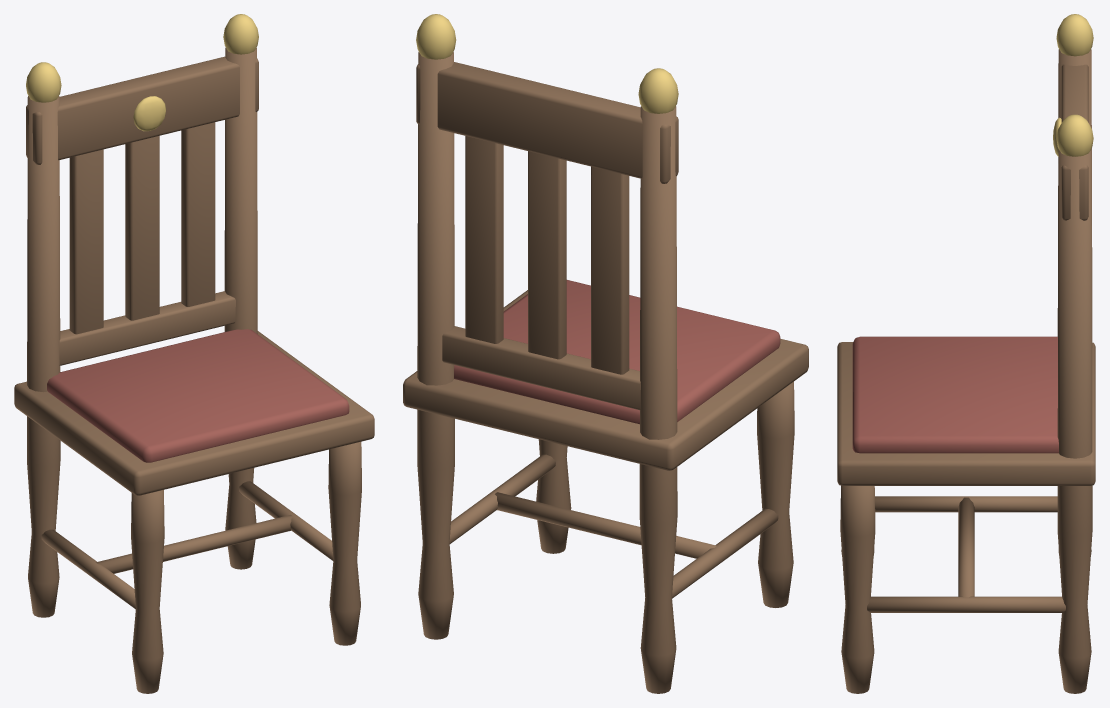
File: tavern_chair.glb
The picture shows the model from 3 angles, left to right: view 1: azimuth 30°, elevation 25°; view 2: azimuth 150°, elevation 25°; view 3: azimuth 270°, elevation 25°; orthographic projection. The views are drawn at different scales.
Parts seen in each view (by area): view 1: ChairCushion, ChairLeg_-2_2, ChairSeat, ChairCrestRail, ChairLeg_2_2, ChairSlat_13, ChairSlat_-13, ChairSlat_0, ChairLeg_-2_-2, ChairLeg_2_-2, ChairBotRail, ChairRungMid (+5 smaller); view 2: ChairLeg_-2_2, ChairLeg_2_2, ChairSeat, ChairCrestRail, ChairCushion, ChairSlat_13, ChairSlat_-13, ChairSlat_0, ChairBotRail, ChairLeg_-2_-2, ChairRungMid, ChairLeg_2_-2 (+4 smaller); view 3: ChairCushion, ChairLeg_2_2, ChairSeat, ChairLeg_2_-2, ChairRungR, ChairRungL, ChairCrestRail, ChairRungMid, ChairFinial_2, ChairFinial_-2, ChairLeg_-2_2.
Part boxes in pixels (x1,y1,x2,y2): ChairCushion: (47,329,349,462); ChairLeg_-2_2: (27,96,60,617); ChairSeat: (14,331,374,495); ChairCrestRail: (26,56,258,164); ChairLeg_2_2: (224,47,257,569); ChairSlat_13: (181,122,215,306); ChairSlat_-13: (69,149,103,334); ChairSlat_0: (125,136,159,320); ChairLeg_-2_-2: (131,490,164,693); ChairLeg_2_-2: (328,442,361,645); ChairBotRail: (59,291,235,365); ChairRungMid: (96,515,292,573); ChairLeg_-2_2: (639,106,677,693); ChairLeg_2_2: (417,52,454,639); ChairSeat: (403,290,808,470); ChairCrestRail: (416,62,678,183); ChairCushion: (454,280,780,424); ChairSlat_13: (465,136,503,343); ChairSlat_-13: (591,166,629,374); ChairSlat_0: (528,151,566,359); ChairBotRail: (442,326,640,410); ChairLeg_-2_-2: (757,381,794,607); ChairRungMid: (495,492,716,558); ChairLeg_2_-2: (536,439,571,553); ChairCushion: (852,336,1058,453); ChairLeg_2_2: (1057,150,1092,693); ChairSeat: (837,342,1095,485); ChairLeg_2_-2: (840,485,875,693); ChairRungR: (867,596,1065,612); ChairRungL: (875,496,1057,512); ChairCrestRail: (1061,64,1088,220); ChairRungMid: (958,497,974,597); ChairFinial_2: (1056,114,1093,156); ChairFinial_-2: (1056,14,1093,56); ChairLeg_-2_2: (1057,49,1092,556).
Bounding box in the file's own units: 0.56 × 1.22 × 0.5.
